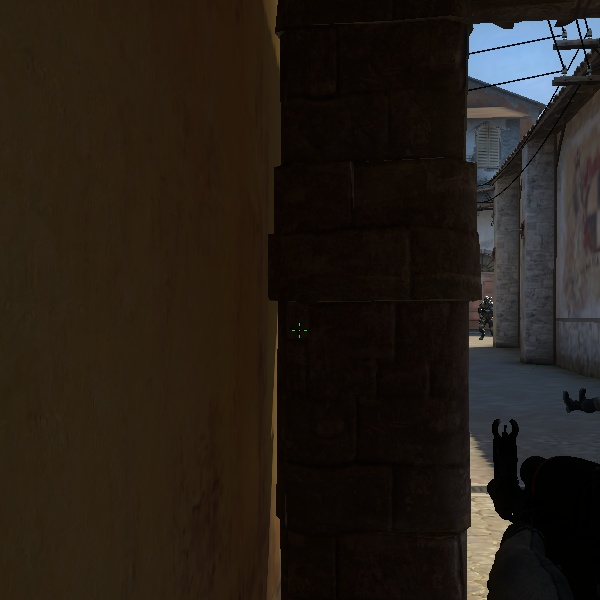ct_body: (472, 293, 497, 340)
